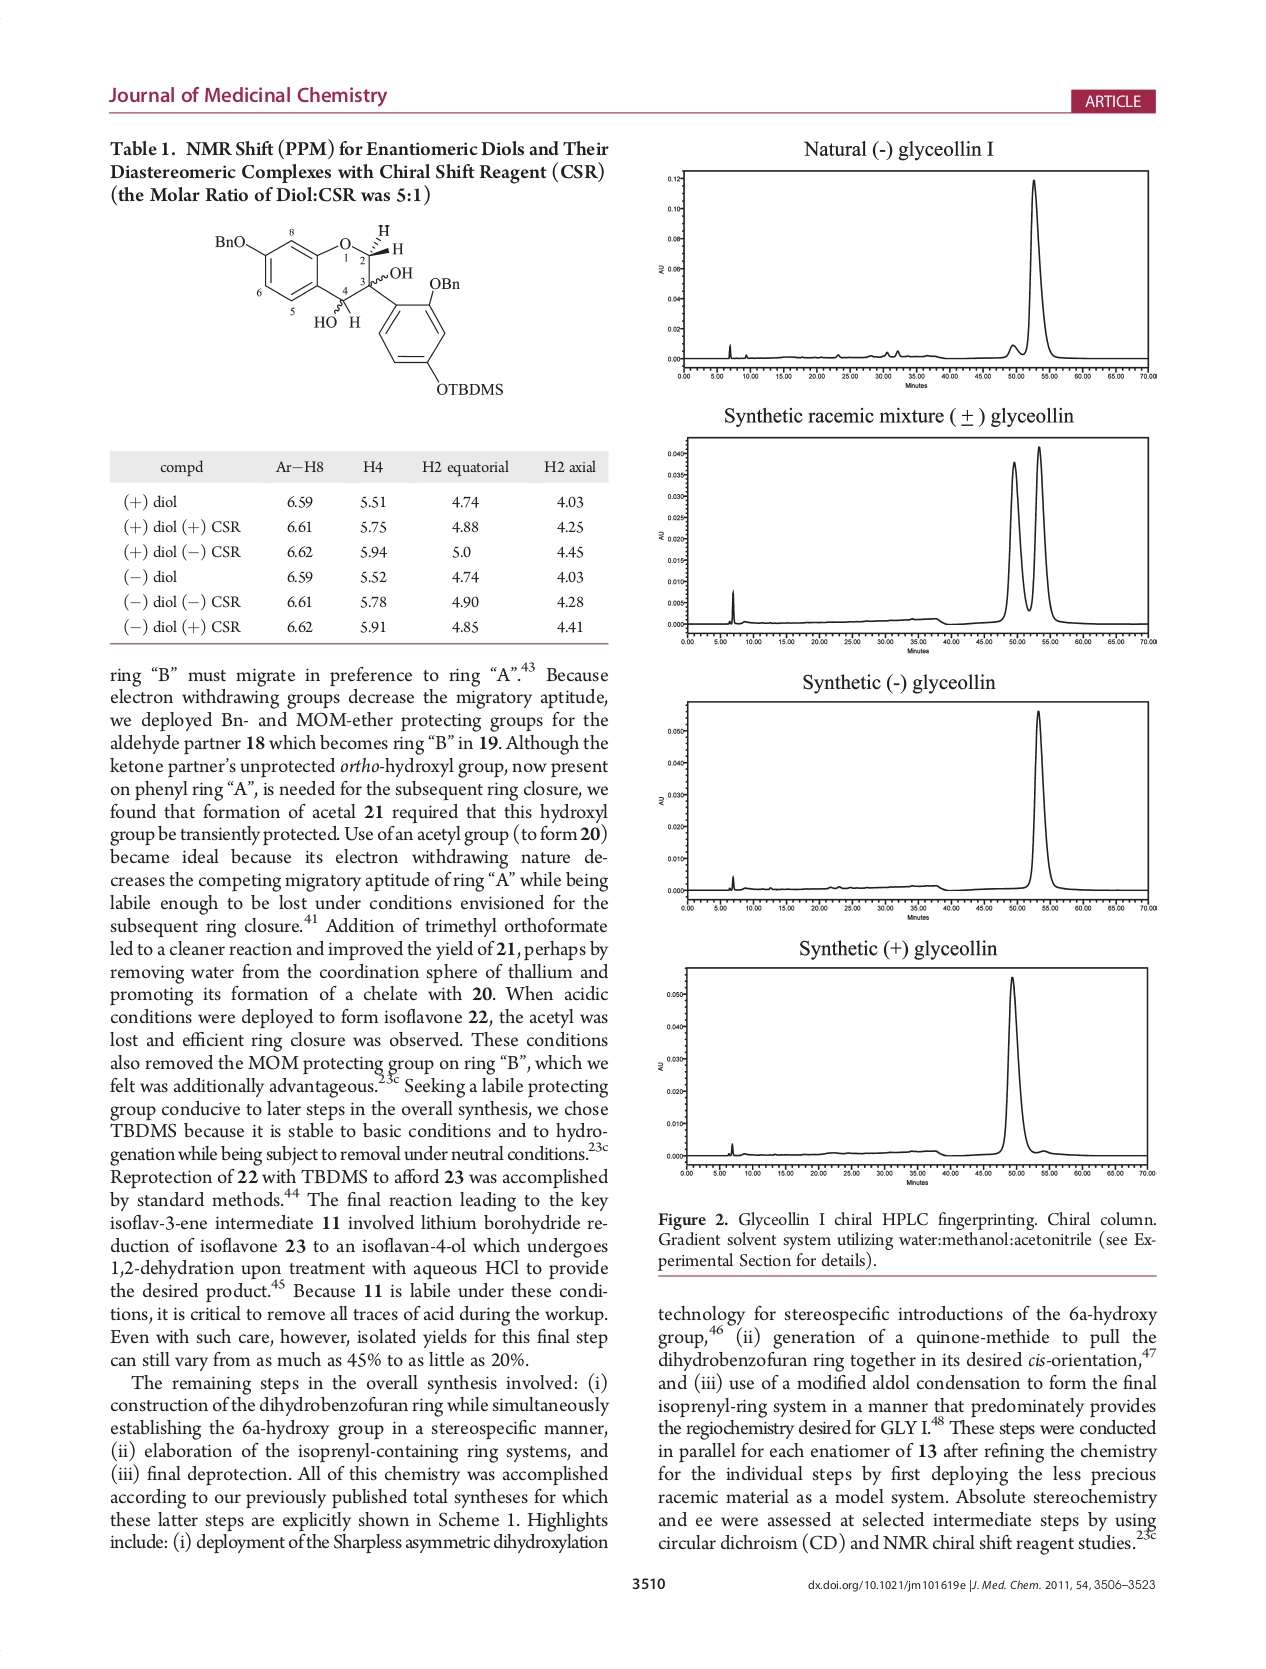exist_molecular: (211, 222, 503, 398)
